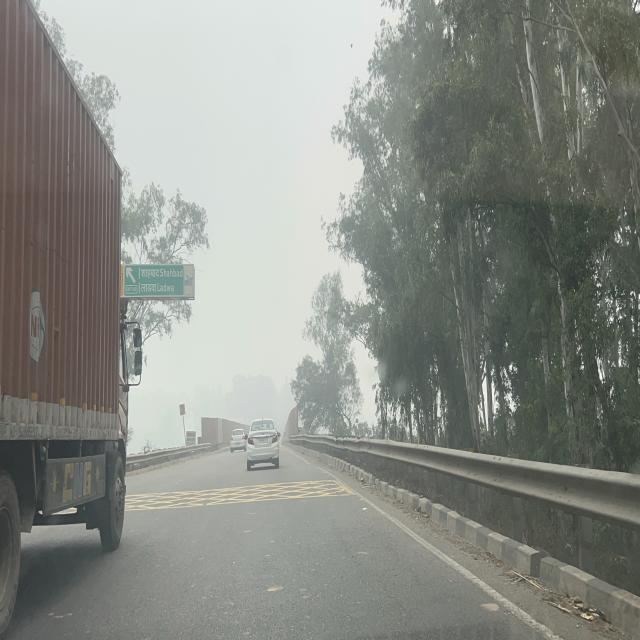GENERAL: (119, 265, 195, 299)
TURN_RIGHT: (180, 403, 186, 415)
